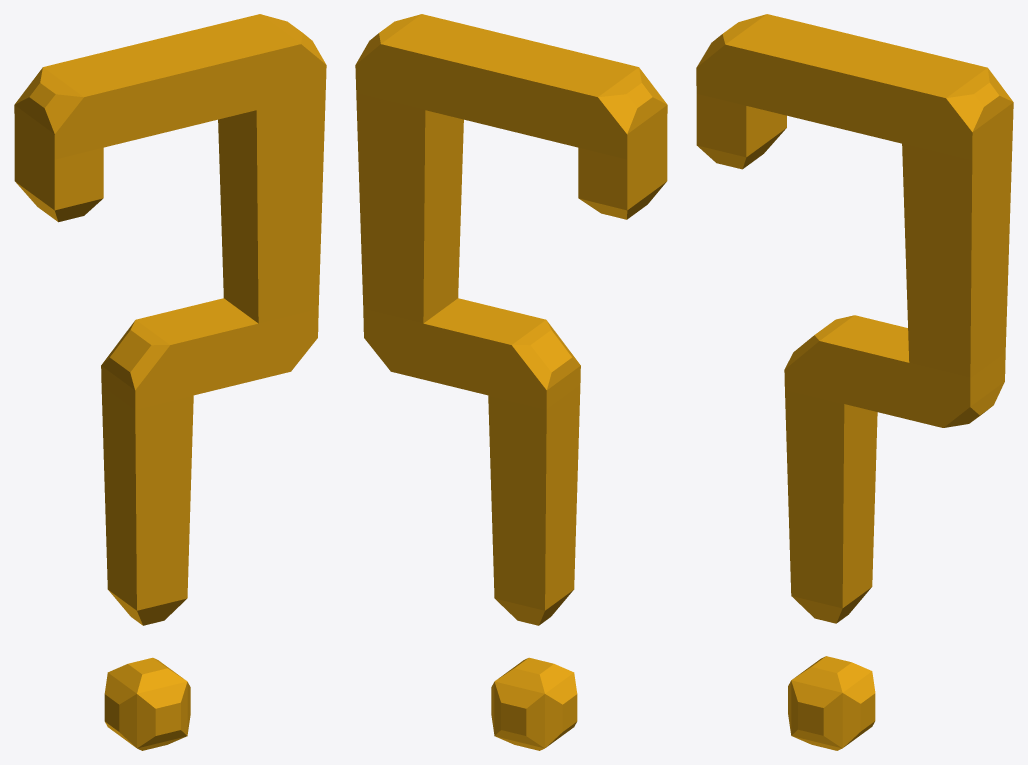
The model's file is Question Mark.fbx.
3 views of the same model, side by side, from view 1: azimuth 30°, elevation 25°; view 2: azimuth 150°, elevation 25°; view 3: azimuth 330°, elevation 25° (orthographic).
Parts seen in each view (by area): view 1: Question Mark; view 2: Question Mark; view 3: Question Mark.
Boxes of the visible parts, x1,y1,x2,y2 form: Question Mark: (14,14,326,750); Question Mark: (355,14,667,750); Question Mark: (696,14,1013,750).
Bounding box in the file's own units: 6.85 × 26.05 × 62.4.
